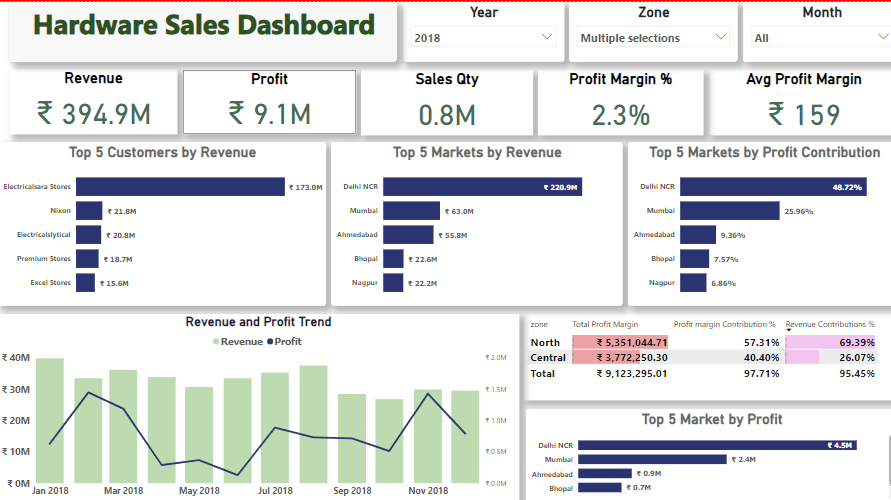

This screenshot's page, from the dashboard's own definition file:
{"tool":"powerbi","page":{"name":"Page 1","canvas":[1542,835],"ordinal":0},"visuals":[{"type":"card","title":"Revenue","fields":{"Values":["Key Measures.Revenue"]},"box":[20,111.4,278.6,108.6],"z":0},{"type":"card","title":"Profit","fields":{"Values":["Key Measures.Profit"]},"box":[308.6,112.9,288.6,107.1],"z":1000},{"type":"card","title":"Sales Qty","fields":{"Values":["Key Measures.Sales_qty"]},"box":[605.7,112.9,287.1,108.6],"z":2000},{"type":"card","title":"Avg Profit Margin","fields":{"Values":["Key Measures.Average Profit Margin"]},"box":[1184.3,112.9,317.1,108.6],"z":3000},{"type":"card","title":"Profit Margin %","fields":{"Values":["Key Measures.Profit Margin %"]},"box":[900,112.9,275.7,108.6],"z":4000},{"type":"tableEx","fields":{"Values":["markets.zone","Key Measures.Total Profit Margin","Key Measures.Profit margin Contribution %","Key Measures.Revenue Contributions %"]},"box":[877.1,520,621.4,144.3],"z":5000},{"type":"slicer","title":"Year","fields":{"Values":["calender.year"]},"box":[674.3,0,268.6,100],"z":6000},{"type":"slicer","title":"Zone ","fields":{"Values":["markets.zone"]},"box":[951.4,0,281.4,100],"z":7000},{"type":"slicer","title":"Month","fields":{"Values":["calender.month_name"]},"box":[1241.4,0,262.9,100],"z":8000},{"type":"shape","title":"Hardware Sales Dashboard","box":[20,0,645,100],"z":9000},{"type":"clusteredBarChart","title":"Top 5 Customers by Revenue","fields":{"Category":["customers.custmer_name"],"Y":["Key Measures.Revenue"]},"box":[0,233.3,546.7,273.3],"z":10000},{"type":"clusteredBarChart","title":"Top 5 Markets by Revenue","fields":{"Y":["Key Measures.Revenue"],"Category":["markets.markets_name"]},"box":[555.7,232.9,485.7,272.9],"z":11000},{"type":"clusteredBarChart","title":"Top 5 Markets by Profit Contribution","fields":{"Y":["Key Measures.Profit margin Contribution %"],"Category":["markets.markets_name"]},"box":[1050,232.9,454.3,272.9],"z":12000},{"type":"lineStackedColumnComboChart","title":"Revenue and Profit Trend","fields":{"Y":["Key Measures.Revenue"],"Category":["calender.cy_date"],"Y2":["Key Measures.Profit"]},"box":[0,520,868.6,315.7],"z":13000},{"type":"clusteredBarChart","title":"Top 5 Market by Profit","fields":{"Y":["Key Measures.Profit"],"Category":["markets.markets_name"]},"box":[880,678.6,618.6,157.1],"z":14000}]}

Visuals, with their boxes on the page's 1542x835 design canvas (x1, y1, x2, y2). These are canvas units, not pixel positions in the 891x500 screenshot, which may show the page scaled, cropped or inside an application window:
"Revenue" card: 20/111/299/220
"Profit" card: 309/113/597/220
"Sales Qty" card: 606/113/893/222
"Avg Profit Margin" card: 1184/113/1501/222
"Profit Margin %" card: 900/113/1176/222
tableEx - markets.zone x Key Measures.Total Profit Margin: 877/520/1498/664
"Year" slicer: 674/0/943/100
"Zone " slicer: 951/0/1233/100
"Month" slicer: 1241/0/1504/100
"Hardware Sales Dashboard" shape: 20/0/665/100
"Top 5 Customers by Revenue" clusteredBarChart: 0/233/547/507
"Top 5 Markets by Revenue" clusteredBarChart: 556/233/1041/506
"Top 5 Markets by Profit Contribution" clusteredBarChart: 1050/233/1504/506
"Revenue and Profit Trend" lineStackedColumnComboChart: 0/520/869/836
"Top 5 Market by Profit" clusteredBarChart: 880/679/1499/836
